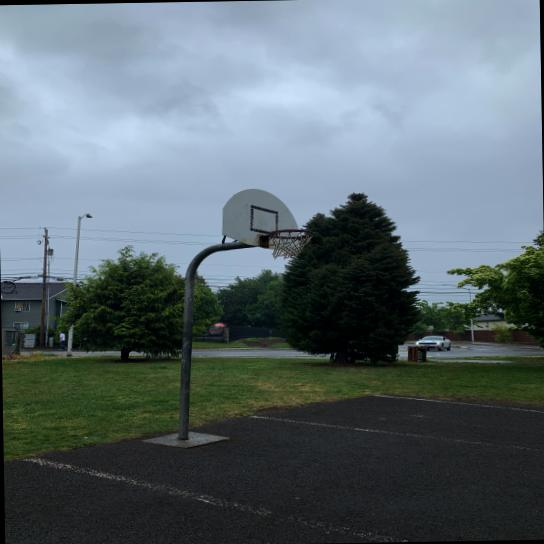basketball-hoop: (268, 228, 316, 260)
